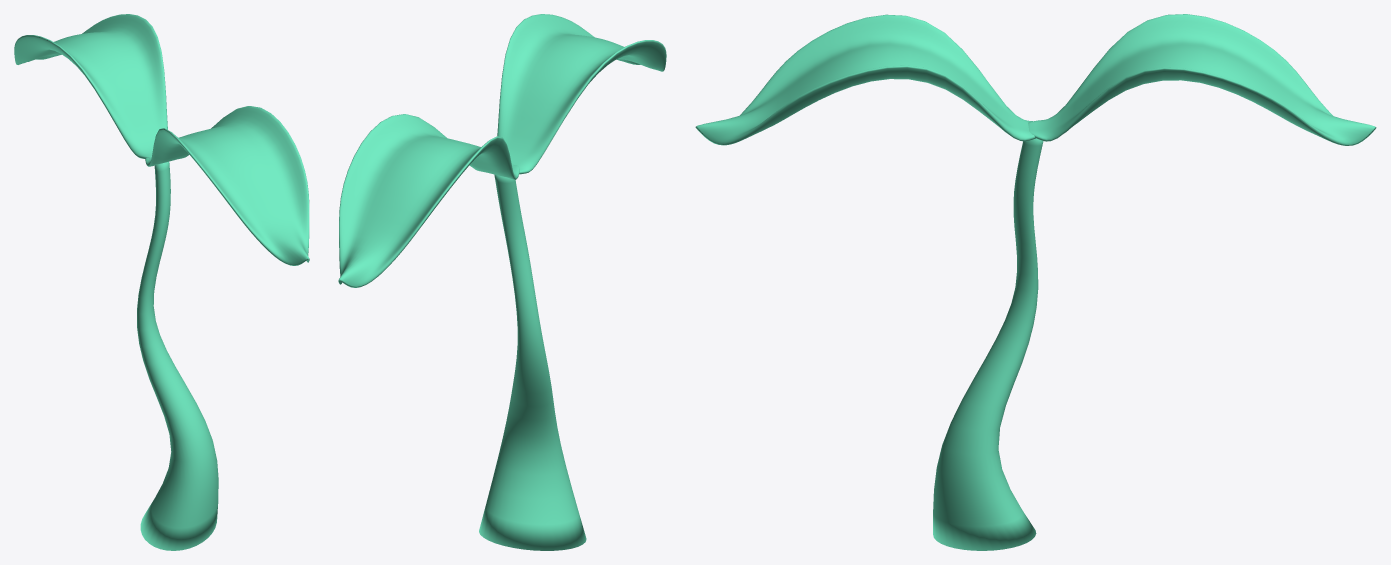
The model's file is Beanstalk_#02fixed_animation.fbx.
3 renders of one model, left to right at view 1: azimuth 30°, elevation 25°; view 2: azimuth 150°, elevation 25°; view 3: azimuth 270°, elevation 25°, orthographic. The views are drawn at different scales.
Parts seen in each view (by area): view 1: Vert.005; view 2: Vert.005; view 3: Vert.005.
Part boxes in pixels (x1,y1,x2,y2): Vert.005: (14, 14, 309, 550); Vert.005: (338, 14, 666, 550); Vert.005: (695, 14, 1376, 550).
Size of the model in its own units: 130 by 545 by 667.
